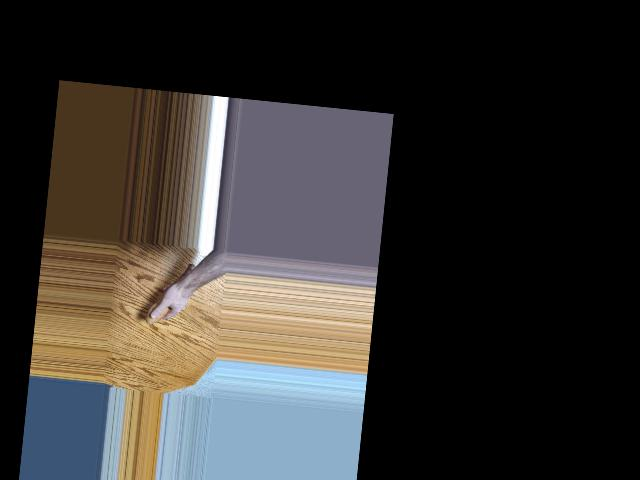sweet_potato: (145, 257, 198, 329)
